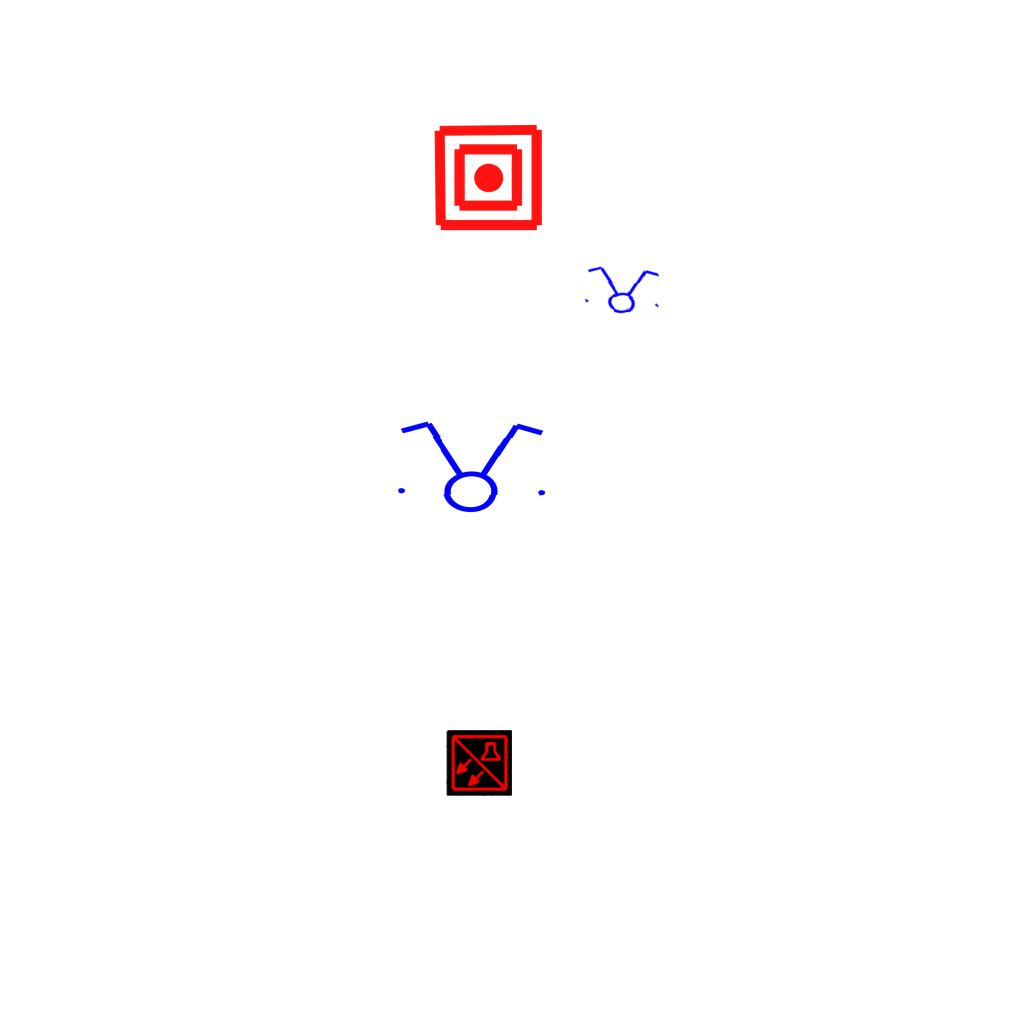NAM-Nichtautomatischer_Melder: (432, 121, 545, 234)
OKW_Multisensormelder_(Kombination_optischer_Rauch-Kahlenmonoxid_Waerme-Melder): (446, 730, 512, 796)
Serienschalter: (385, 416, 555, 516), (578, 263, 666, 317)
